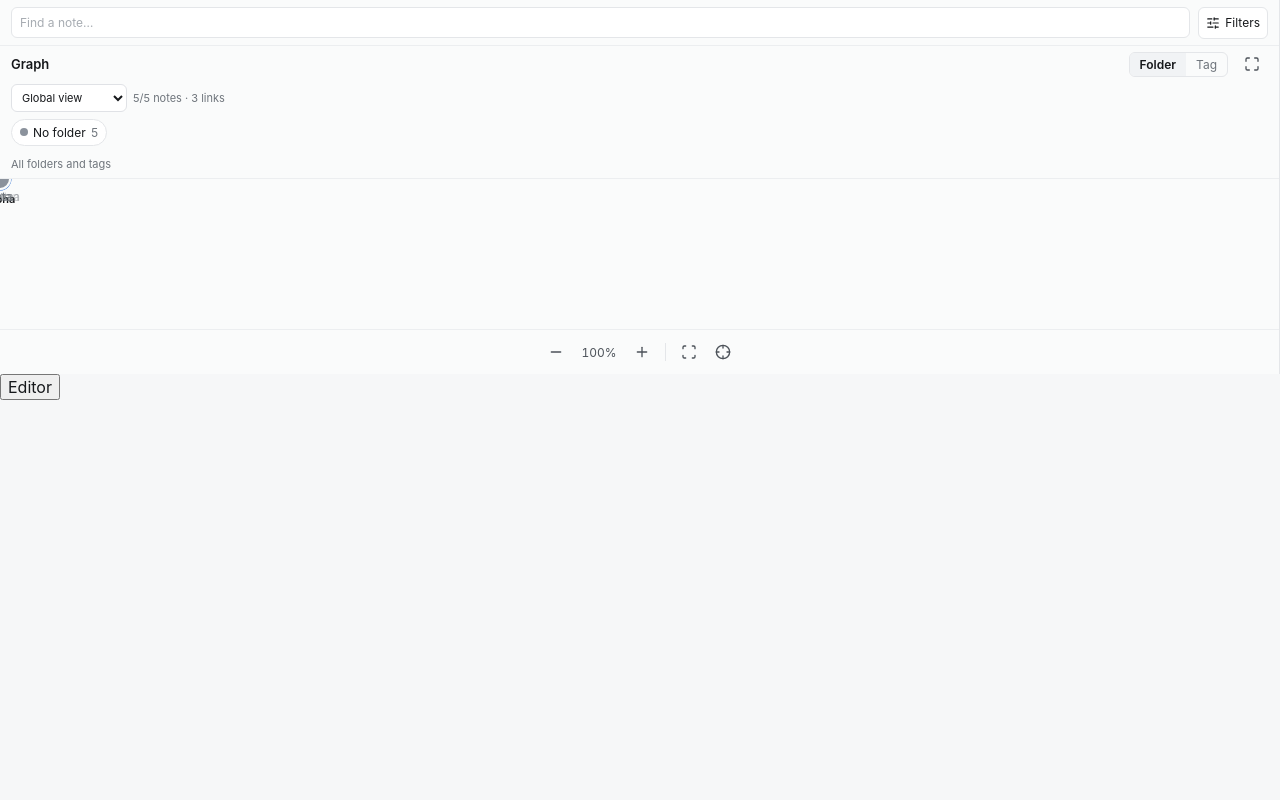
Scenario: Overlay graph filters › cancels a filter dialog without leaving expanded mode
Step 1. Click the button named "Expand graph" → point(1252, 64), box [1236, 48, 1268, 80]
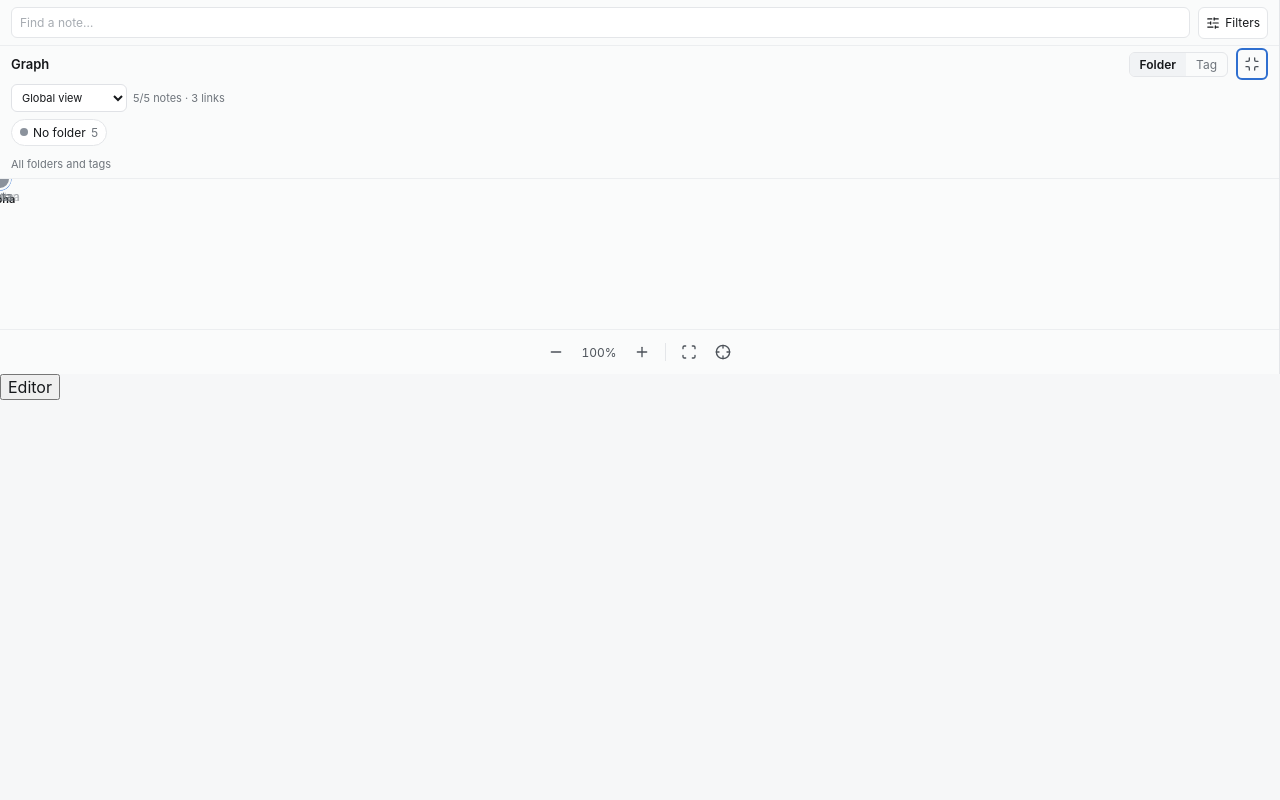
Step 2. Click the button "Filters" → point(1233, 22), box [1198, 6, 1268, 38]
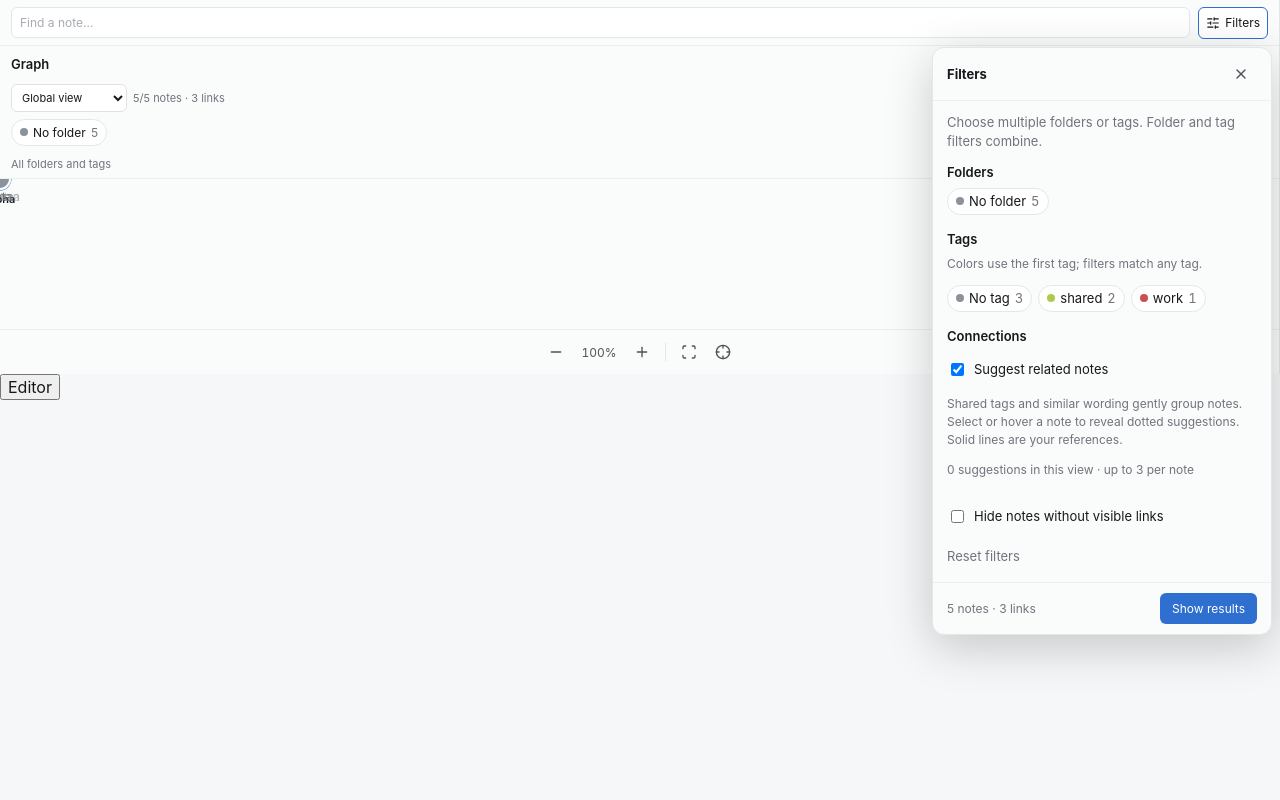
Step 3. Press Escape in the dialog, box [932, 46, 1272, 634]
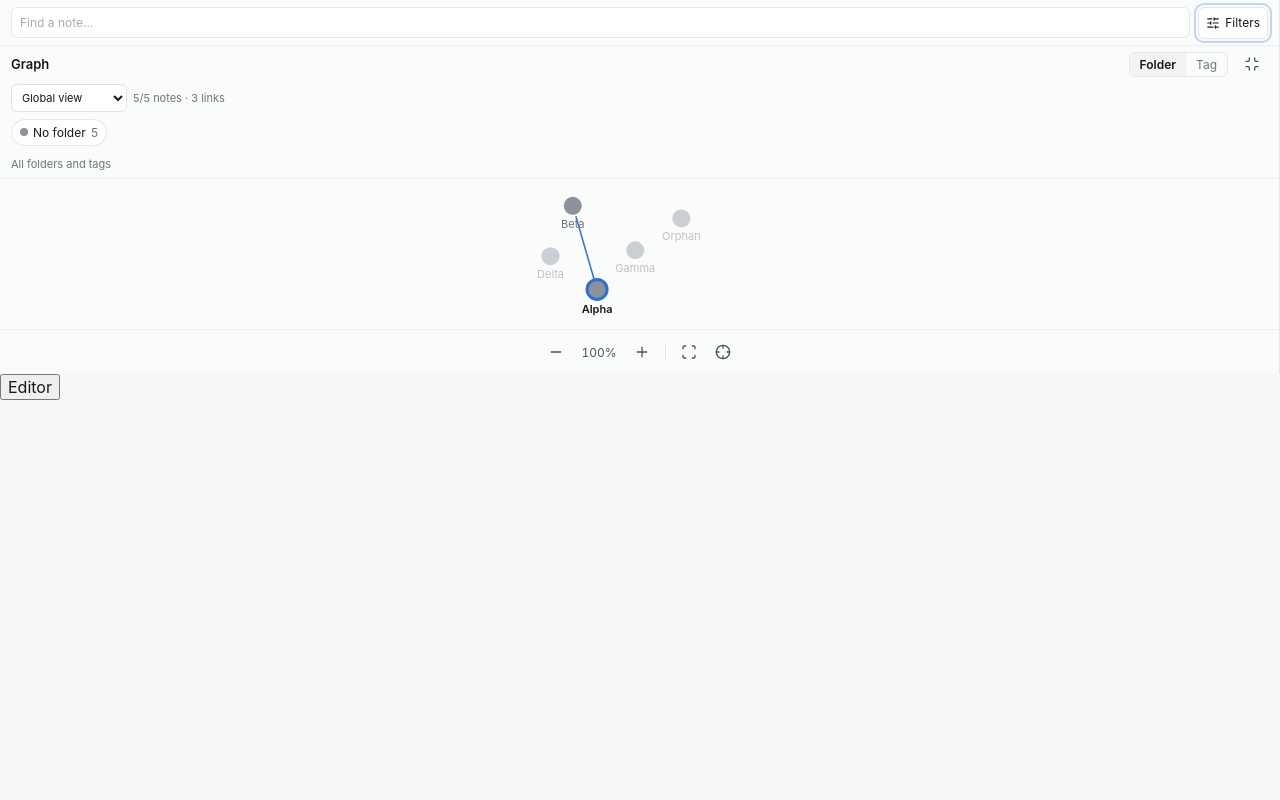
Result: the dialog with class "is-expanded" is shown at [0, 0, 1279, 374]
Result: the dialog is gone
